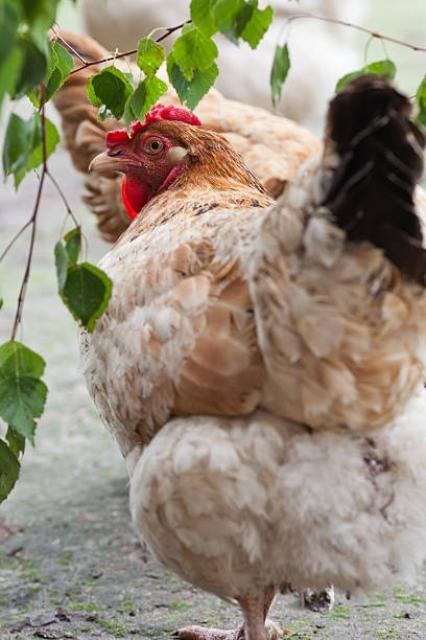Chicken: (78, 80, 426, 640), (41, 29, 329, 246)
